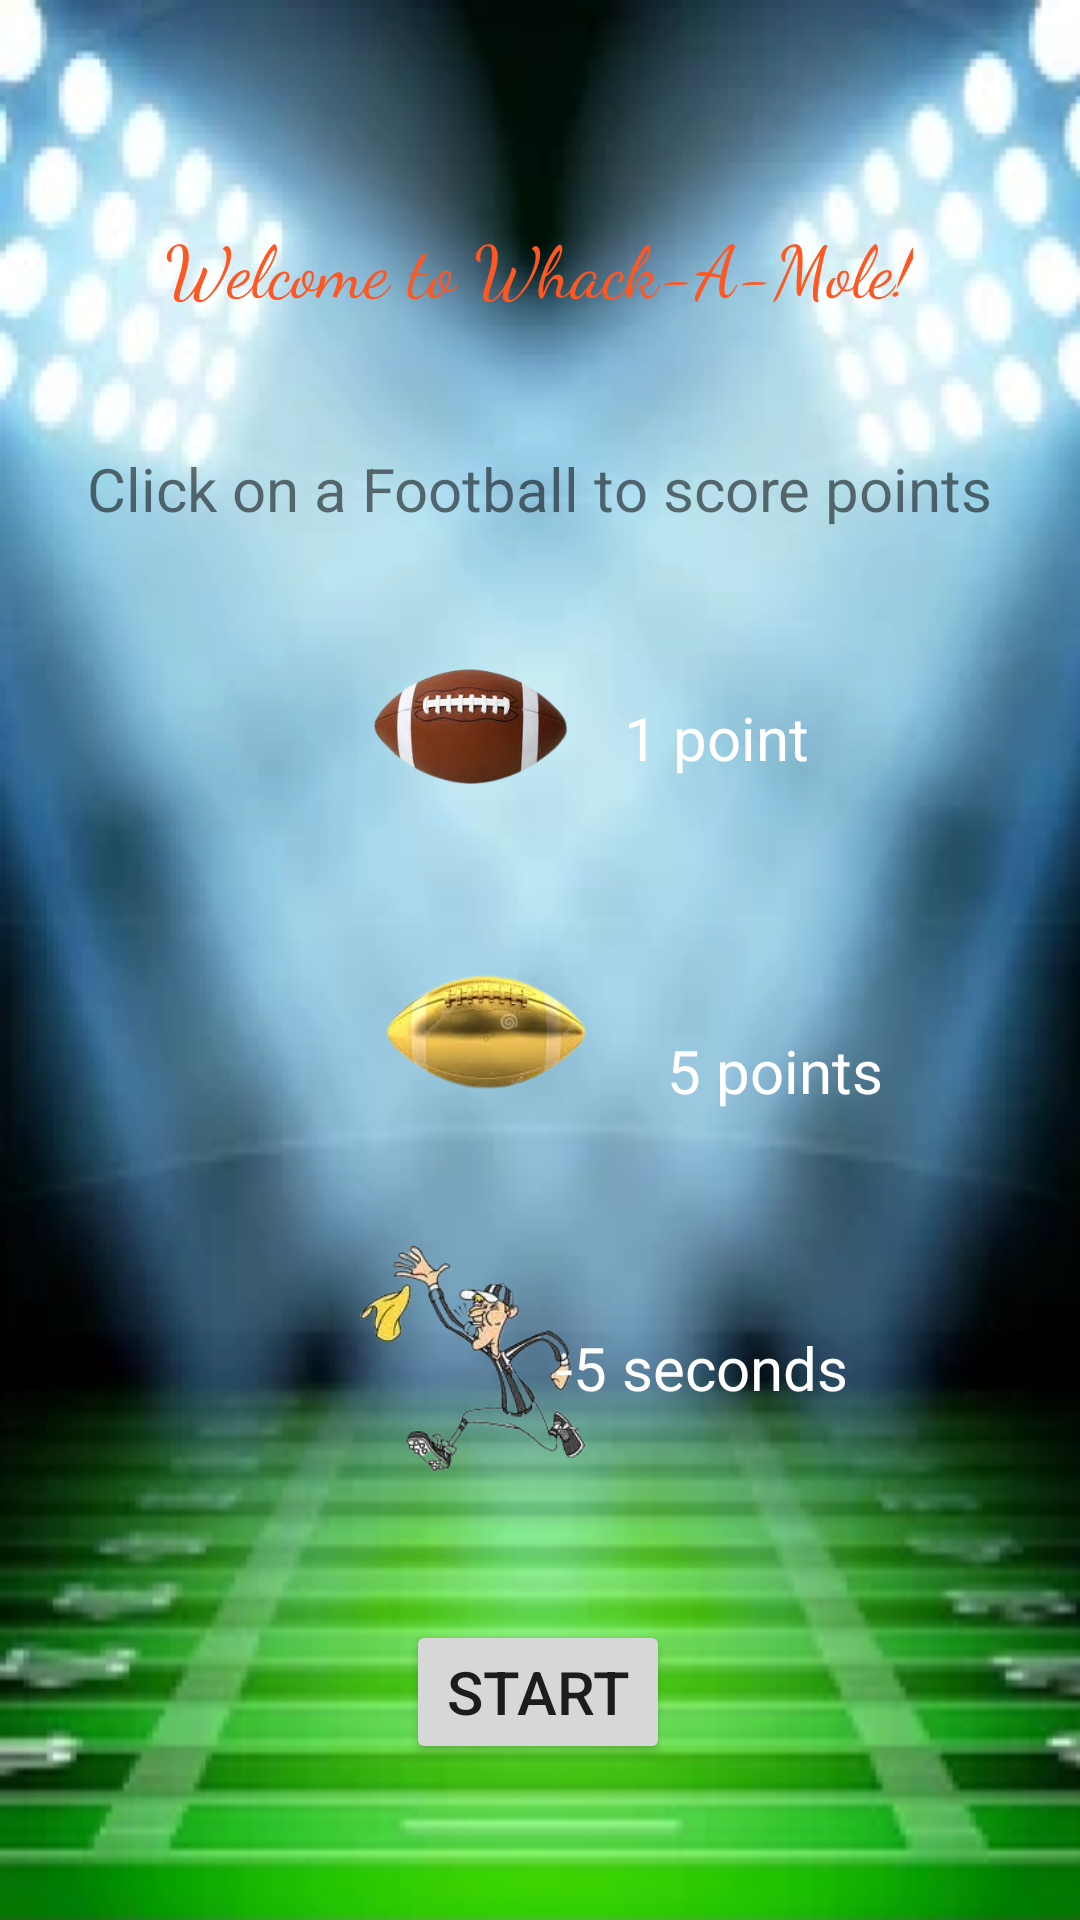

Icons on this 1080px x 1920px Android screen, each with the point to tap as point (x, y):
referee: point (472, 1358)
